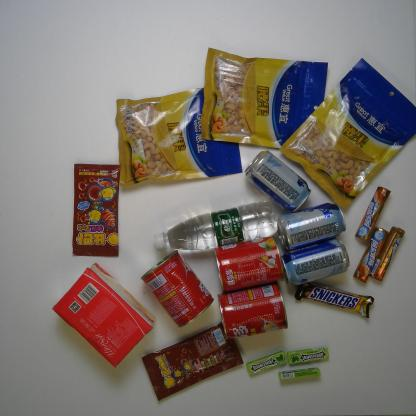Alcohol: (244, 149, 312, 213), (276, 201, 346, 252), (280, 236, 351, 286)
Candy: (140, 322, 244, 402), (72, 163, 121, 258), (352, 226, 390, 284), (369, 225, 406, 282), (354, 186, 391, 241)
Canned Food: (140, 249, 214, 328), (213, 234, 285, 294), (217, 282, 289, 341)
Chocolate: (292, 280, 374, 319)
Dried Fruit: (278, 57, 416, 214), (200, 46, 328, 151), (115, 85, 245, 188)
Drink: (153, 200, 279, 252)
Gum: (246, 350, 287, 376), (286, 346, 329, 365), (278, 367, 321, 382)
Tissue: (51, 262, 155, 369)
